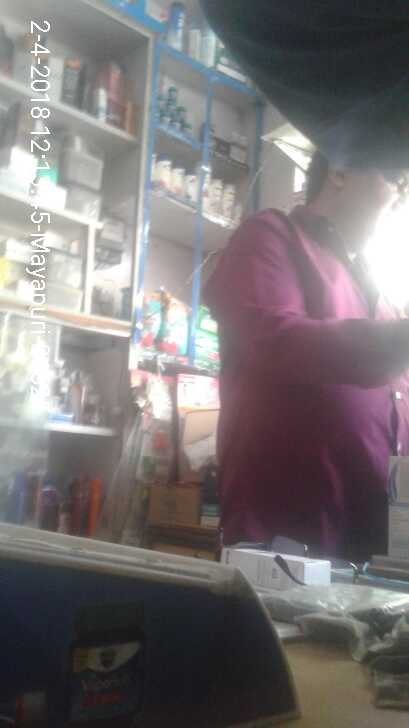vicks: (157, 82, 196, 137)
